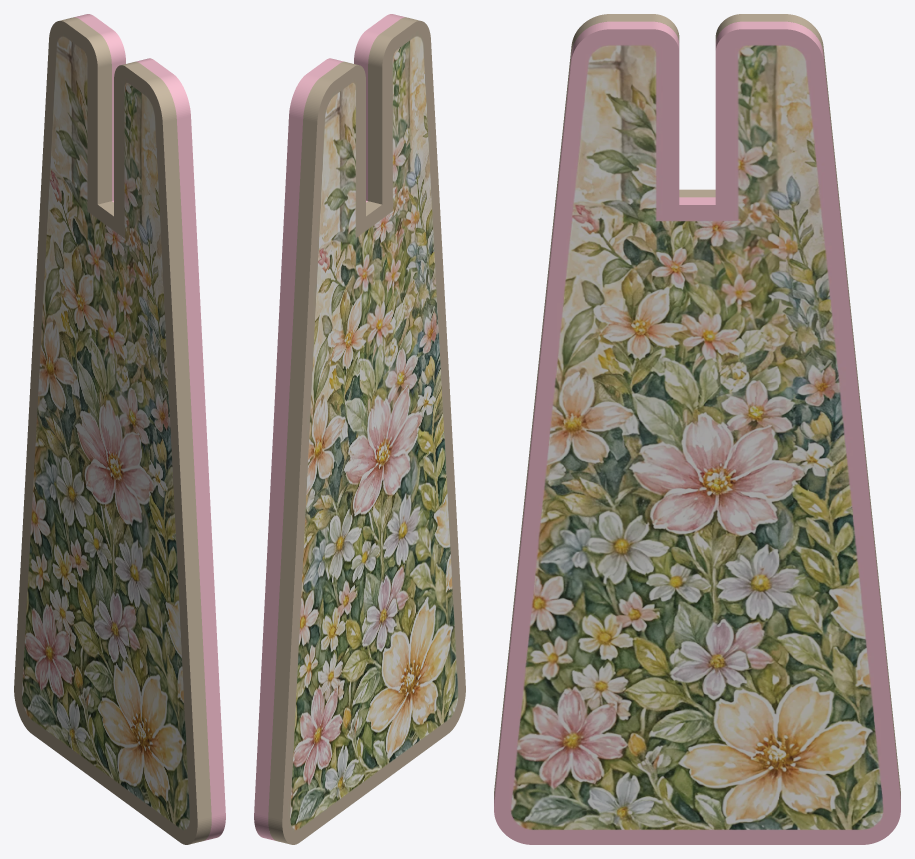
3 renders of one model, left to right at view 1: azimuth 30°, elevation 25°; view 2: azimuth 150°, elevation 25°; view 3: azimuth 270°, elevation 25°, orthographic. The views are drawn at different scales.
Parts seen in each view (by area): view 1: p016; view 2: p016; view 3: p016.
Boxes of the visible parts, x1,y1,x2,y2 form: p016: (14,14,225,844); p016: (254,14,465,844); p016: (494,14,900,844).
Bounding box in the file's own units: 18 × 448 × 202.
4 materials, 2 textured.
